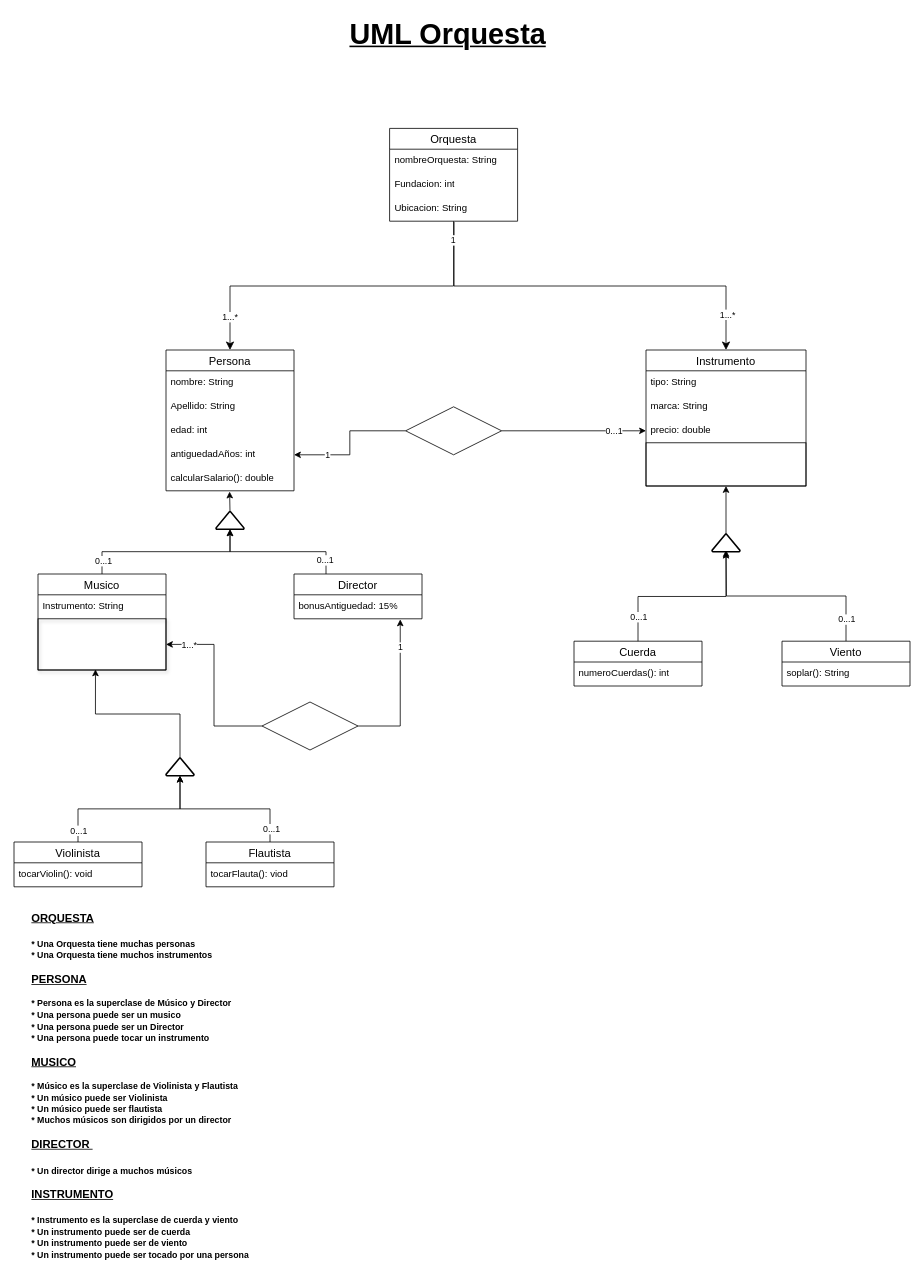
This 924x1283 diagram has some shape labels left out. The shapes that lost their labels are listed below. From the top down, each one's centre as x and y in pixels, then its label:
At pixel 453 430: "tocar".
At pixel 725 464: "agregarInstrumento(): double afinar(): void".
At pixel 102 645: "agregarMusico(): double BonusAntiguedad: 10%".
At pixel 309 725: "dirige".
